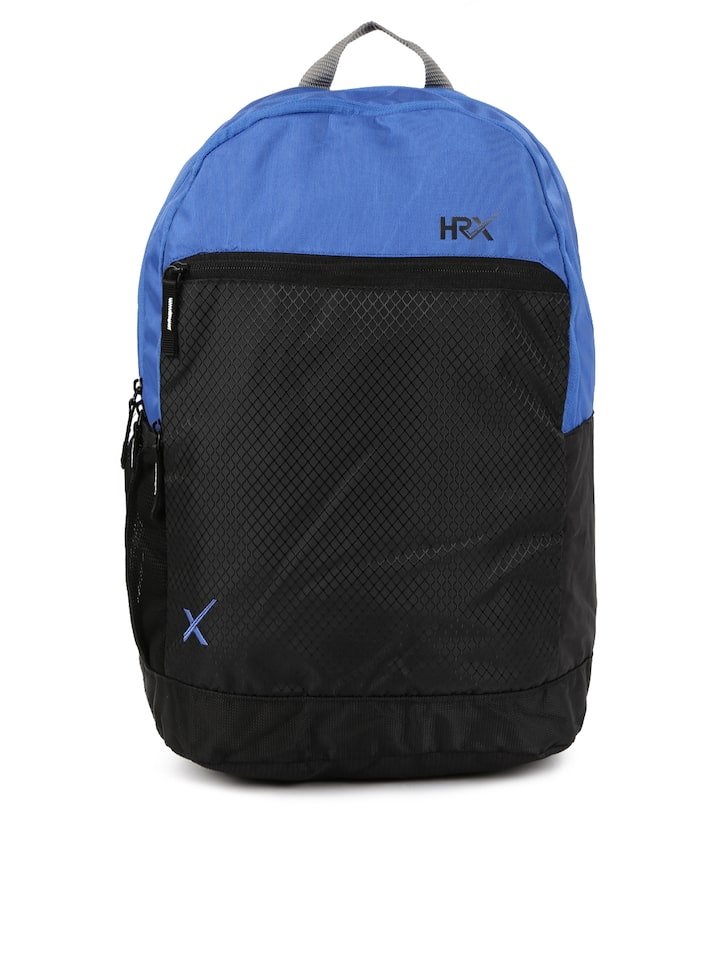backpack: (121, 20, 598, 783)
